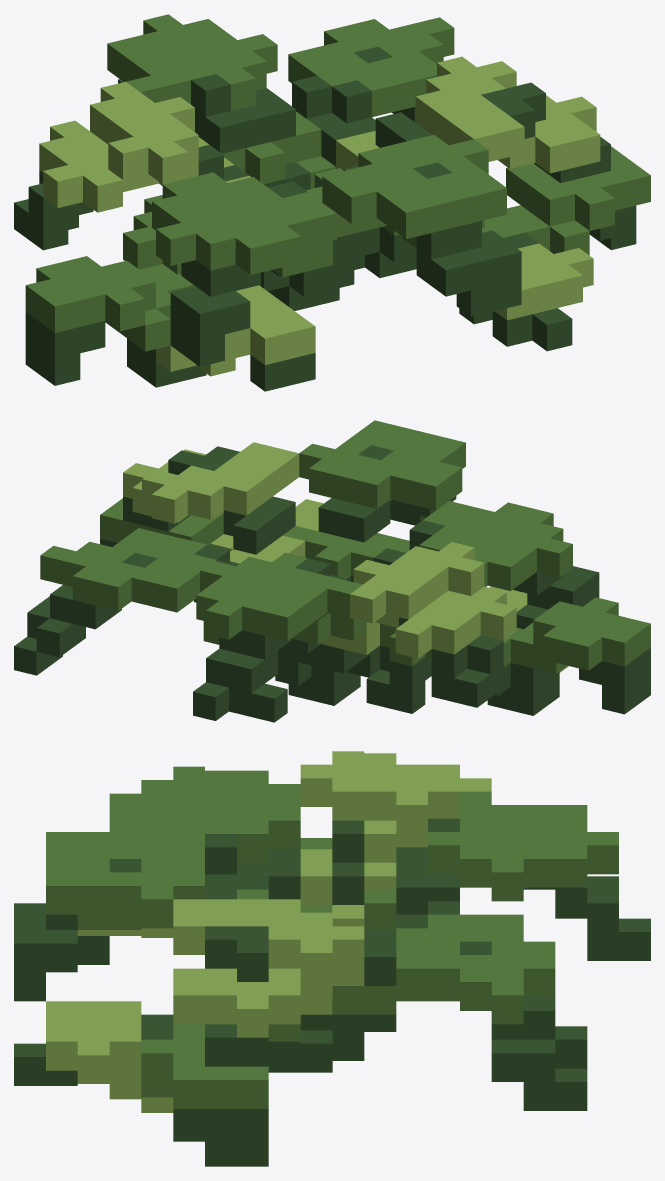
File: fern_cluster_v2_species2_far.glb
3 views of the same model, one above another, from view 1: azimuth 30°, elevation 25°; view 2: azimuth 150°, elevation 25°; view 3: azimuth 270°, elevation 25° (orthographic). The views are drawn at different scales.
Visible parts, largest first — view 1: fern_cluster_v2_species2_far; view 2: fern_cluster_v2_species2_far; view 3: fern_cluster_v2_species2_far.
Part boxes in pixels (x1=…): fern_cluster_v2_species2_far: x1=14, y1=14, x2=650, y2=391; fern_cluster_v2_species2_far: x1=14, y1=420, x2=650, y2=722; fern_cluster_v2_species2_far: x1=14, y1=751, x2=650, y2=1166.
Size of the model in its own units: 2.88 by 0.875 by 2.5.
Materials: 1 (1 with a texture image).
